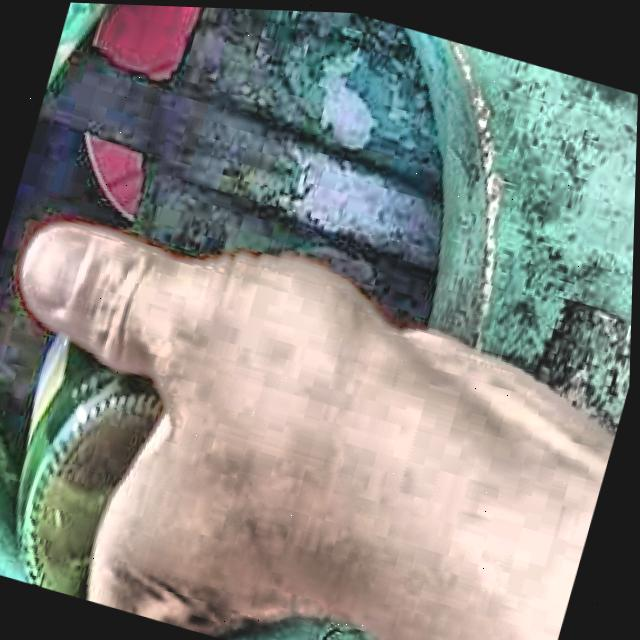glass: (22, 346, 166, 599)
